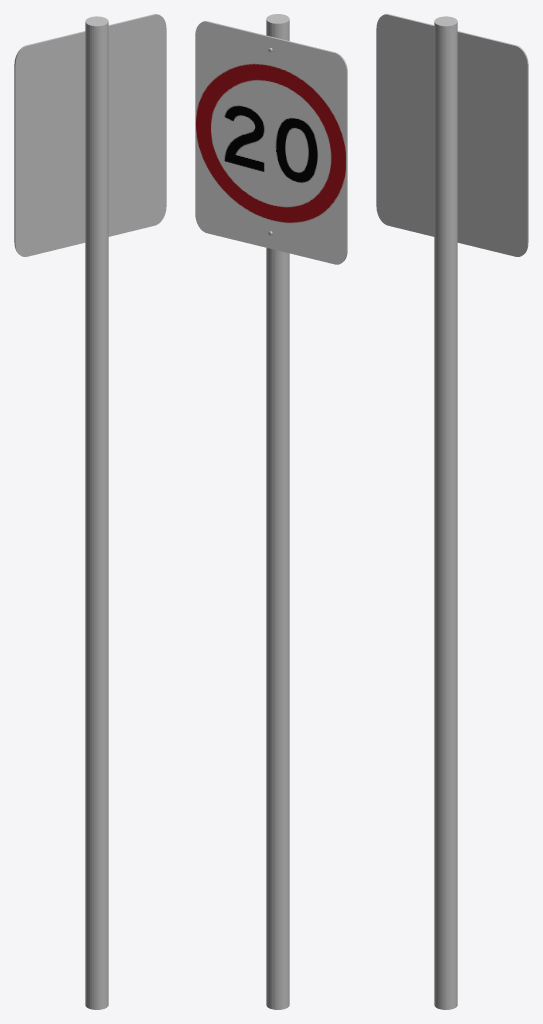
The model's file is SpeedLimit.fbx.
The picture shows the model from 3 angles, left to right: view 1: azimuth 30°, elevation 25°; view 2: azimuth 150°, elevation 25°; view 3: azimuth 330°, elevation 25°; orthographic projection.
Visible parts, largest first — view 1: Cube.001, Cylinder; view 2: Cube.001, Cylinder; view 3: Cube.001, Cylinder.
Part boxes in pixels (left/top/right/bottom): Cube.001: left=14, top=14, right=166, bottom=256; Cylinder: left=85, top=16, right=108, bottom=1009; Cube.001: left=195, top=21, right=347, bottom=264; Cylinder: left=266, top=14, right=289, bottom=1009; Cube.001: left=376, top=14, right=528, bottom=256; Cylinder: left=434, top=16, right=457, bottom=1009.
Size of the model in its own units: 90 by 560 by 14.46.
